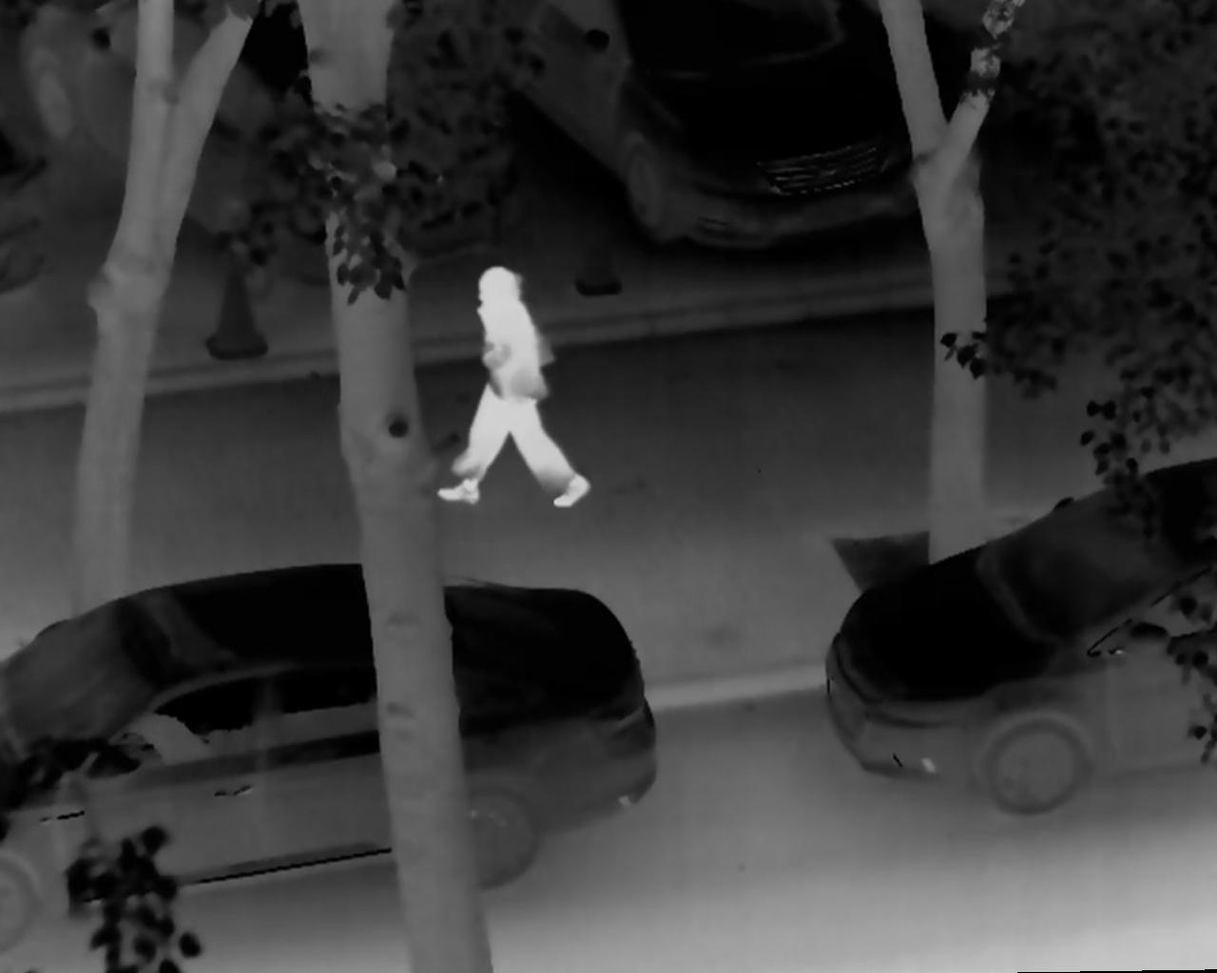person: (429, 265, 593, 516)
